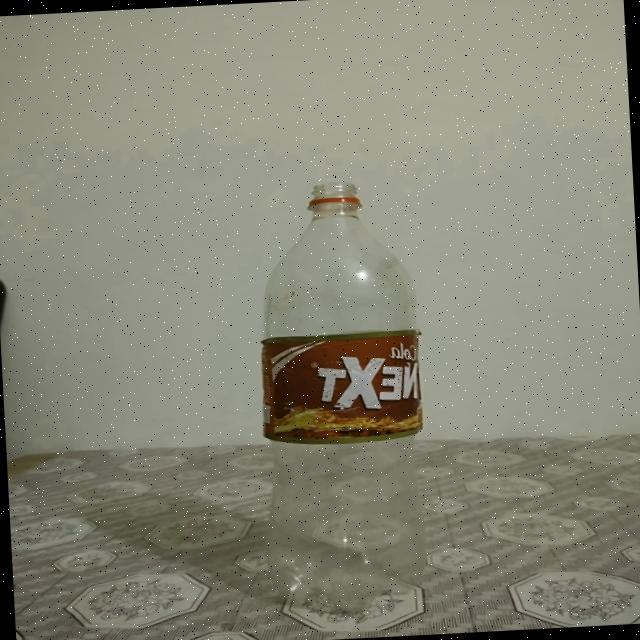bottle: (256, 172, 435, 620)
label: (252, 324, 427, 449)
